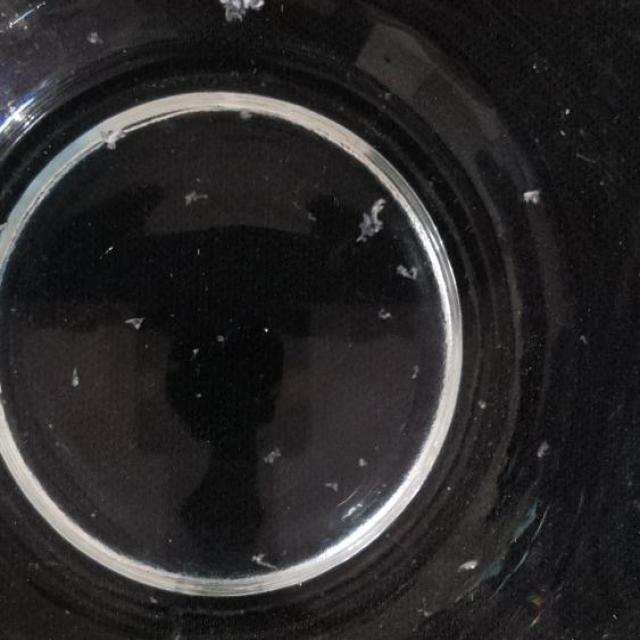fiber: (351, 183, 390, 248), (210, 0, 274, 25), (247, 545, 282, 579), (370, 297, 402, 330), (318, 471, 352, 502), (262, 429, 286, 472), (517, 183, 548, 214), (388, 261, 428, 284), (124, 306, 148, 344), (182, 181, 210, 210), (346, 450, 378, 474), (67, 360, 85, 394)
